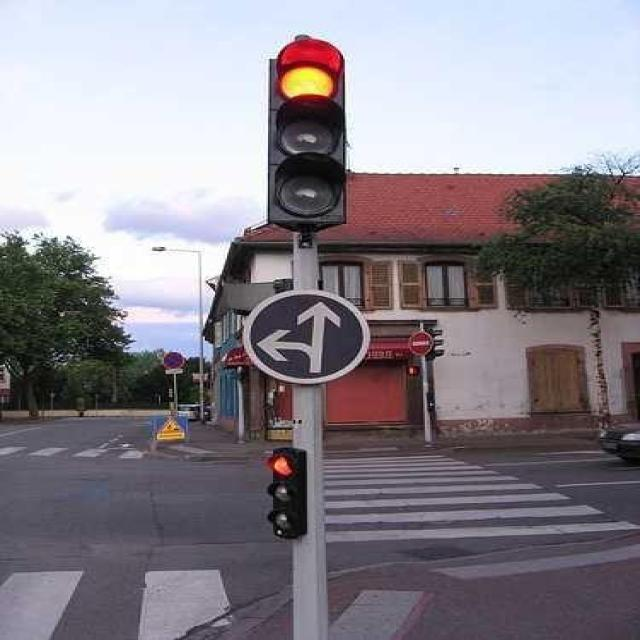Traffic Light -Red-: (266, 29, 350, 236)
